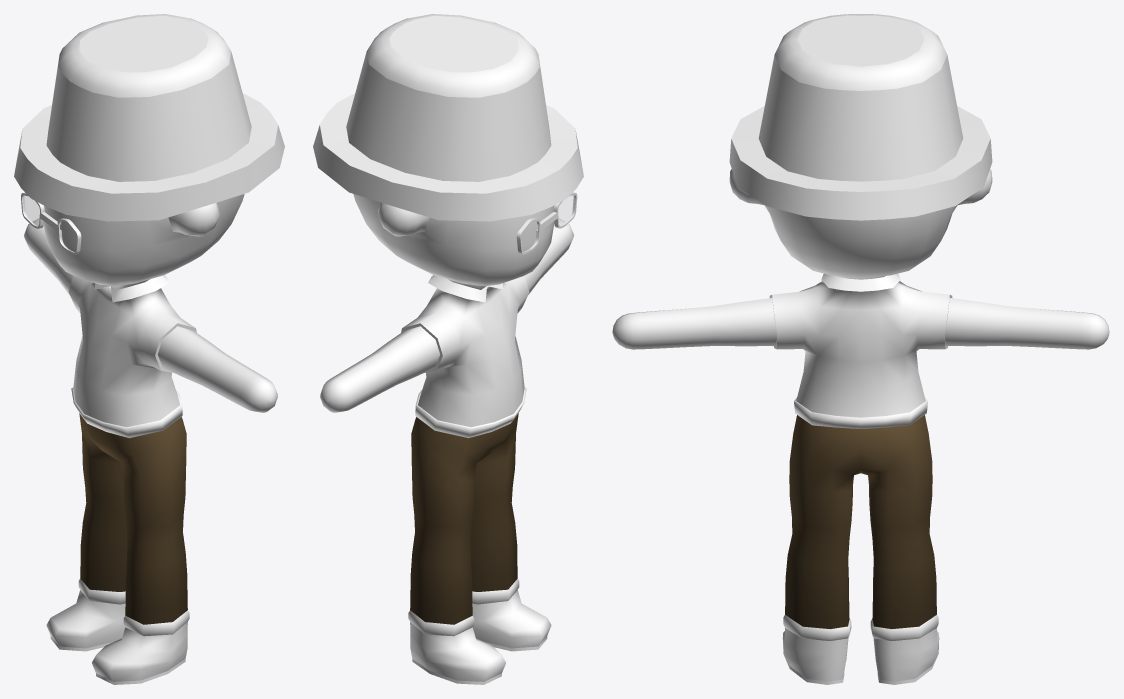
File: WalterWhite-JUSTFBX.fbx
The picture shows the model from 3 angles, left to right: view 1: azimuth 30°, elevation 25°; view 2: azimuth 150°, elevation 25°; view 3: azimuth 270°, elevation 25°; orthographic projection. The views are drawn at different scales.
Visible parts, largest first — view 1: Cube.020; view 2: Cube.020; view 3: Cube.020.
Part boxes in pixels (box(x1,y1,x2,y2)): Cube.020: box(14, 14, 284, 684); Cube.020: box(313, 14, 583, 684); Cube.020: box(612, 14, 1109, 684).
Size of the model in its own units: 0.8736 by 2.13 by 1.51.
